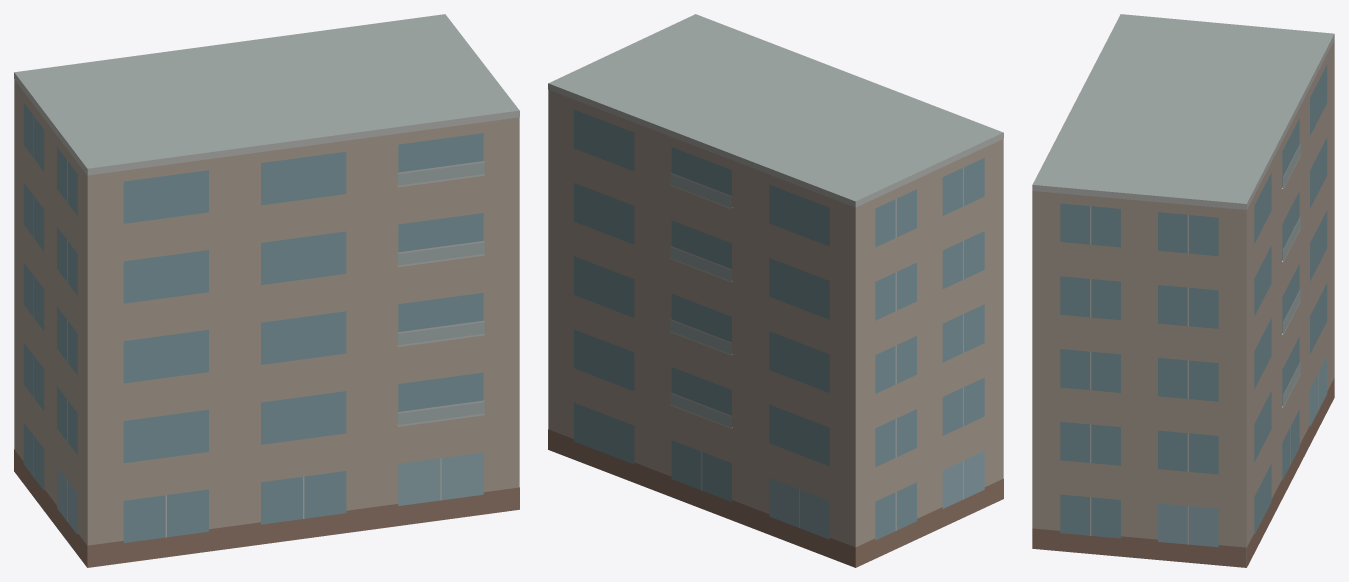
The model's file is survey-upis-33043797.glb.
3 views of the same model, side by side, from view 1: azimuth 30°, elevation 25°; view 2: azimuth 150°, elevation 25°; view 3: azimuth 270°, elevation 25° (orthographic). The views are drawn at different scales.
Parts seen in each view (by area): view 1: survey-upis-33043797.tmp; view 2: survey-upis-33043797.tmp; view 3: survey-upis-33043797.tmp.
Part boxes in pixels (left/top/right/bottom): survey-upis-33043797.tmp: left=14, top=14, right=519, bottom=567; survey-upis-33043797.tmp: left=548, top=14, right=1003, bottom=567; survey-upis-33043797.tmp: left=1032, top=14, right=1334, bottom=567.
Size of the model in its own units: 16.25 by 14.5 by 10.92.
